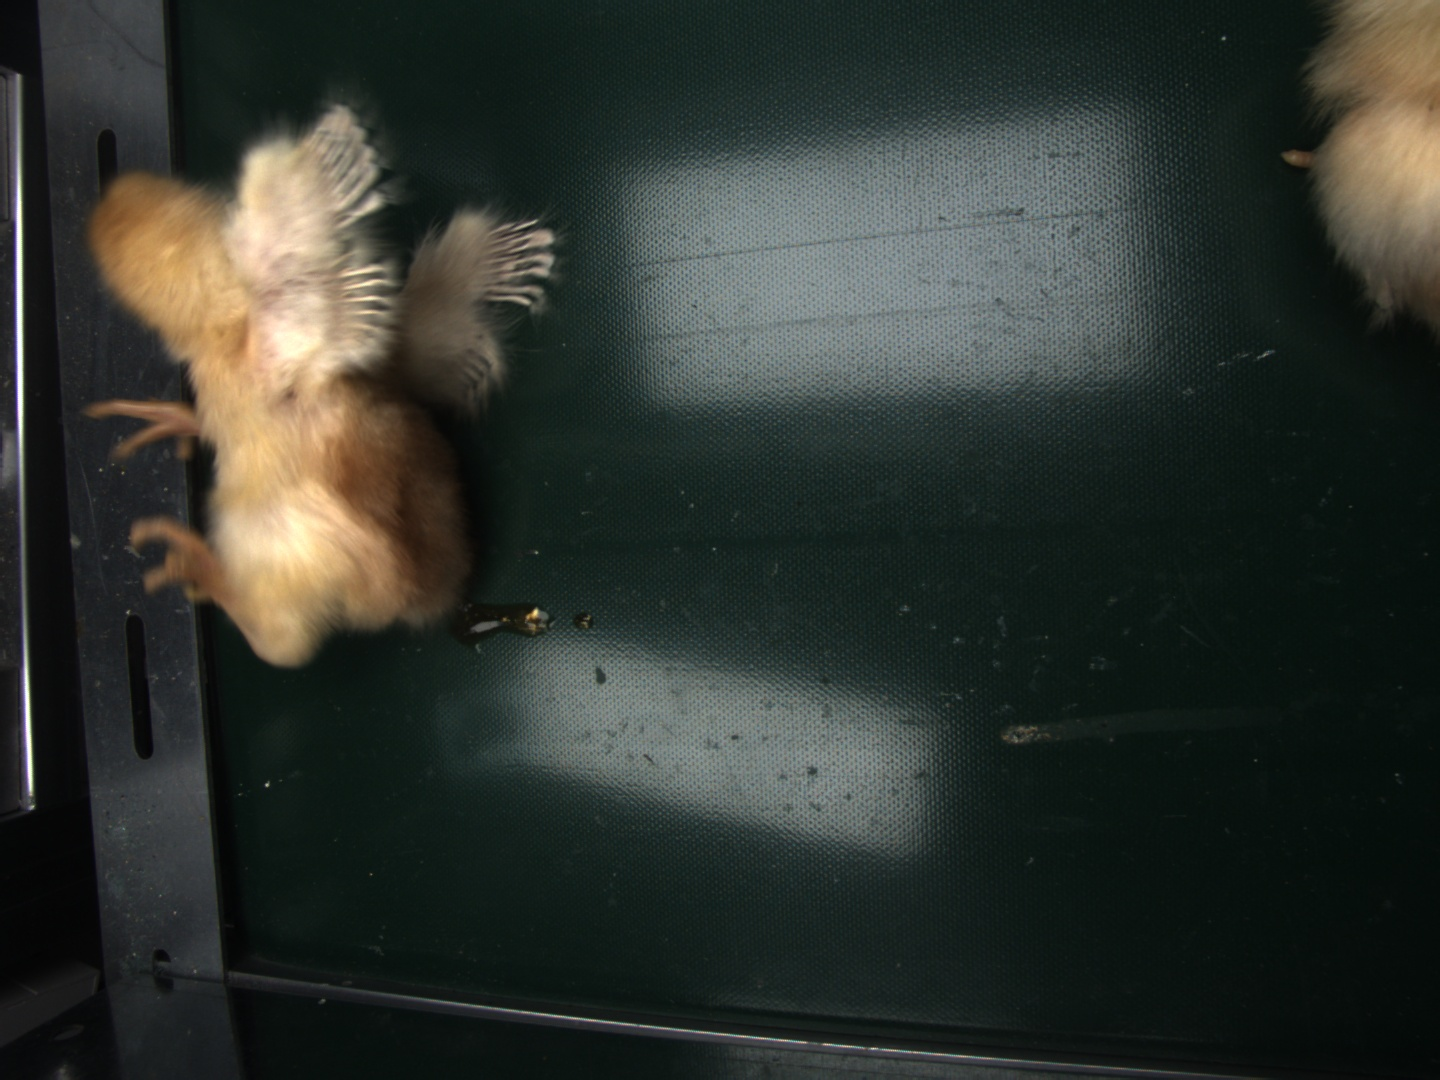female: (483, 216, 556, 301)
